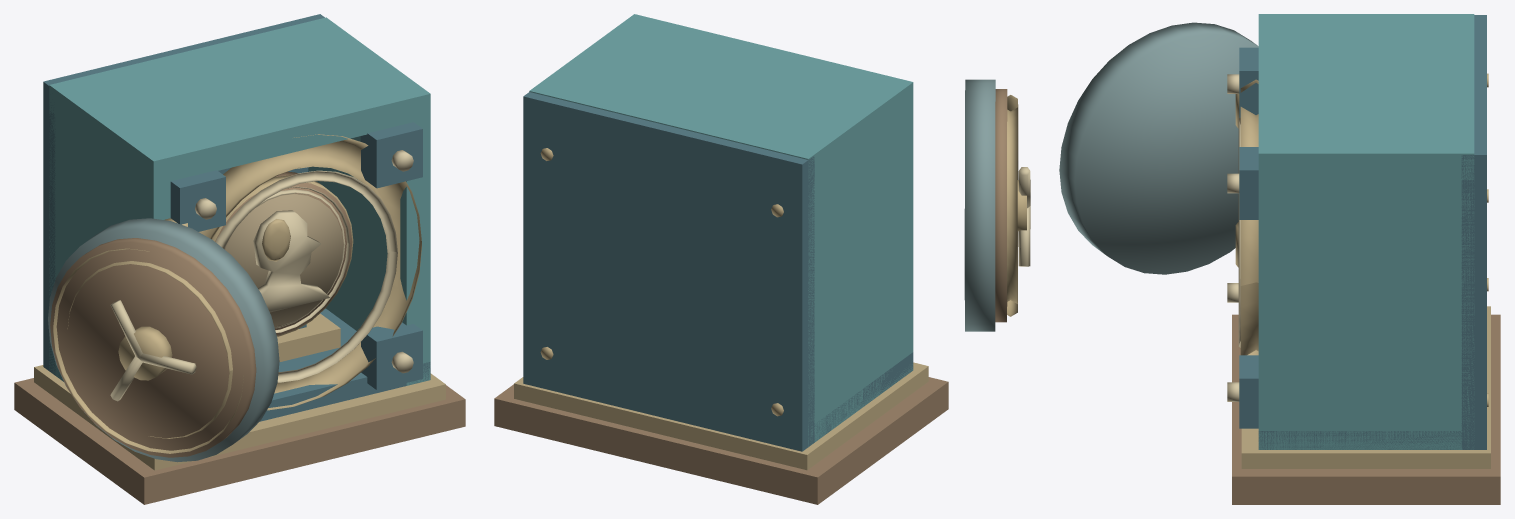
Rendered from ART-25.glb.
3 renders of one model, left to right at view 1: azimuth 30°, elevation 25°; view 2: azimuth 150°, elevation 25°; view 3: azimuth 270°, elevation 25°, orthographic. The views are drawn at different scales.
Parts seen in each view (by area): view 1: world; view 2: world; view 3: world.
Part boxes in pixels (left/top/right/bottom): world: left=14, top=14, right=465, bottom=504; world: left=494, top=14, right=1030, bottom=504; world: left=1059, top=14, right=1500, bottom=504.
Size of the model in its own units: 2 by 1.57 by 1.84.
